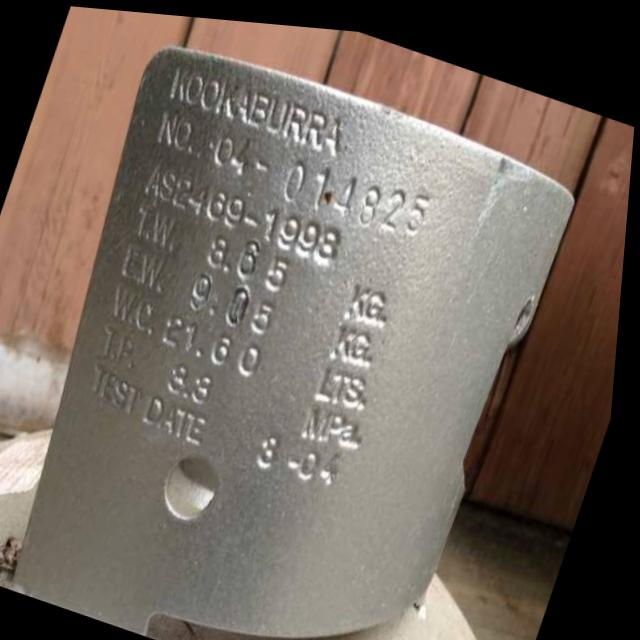ocr: (137, 156, 357, 264), (162, 52, 358, 157), (278, 141, 442, 242), (86, 365, 222, 446), (157, 302, 274, 382), (183, 261, 286, 341), (200, 218, 303, 295), (250, 419, 356, 492), (303, 386, 375, 453), (102, 273, 174, 338), (115, 232, 181, 294), (314, 352, 380, 414), (127, 193, 191, 254), (159, 350, 228, 405), (92, 316, 151, 374), (344, 268, 403, 326), (327, 310, 387, 367), (207, 118, 261, 181), (151, 101, 203, 158)
